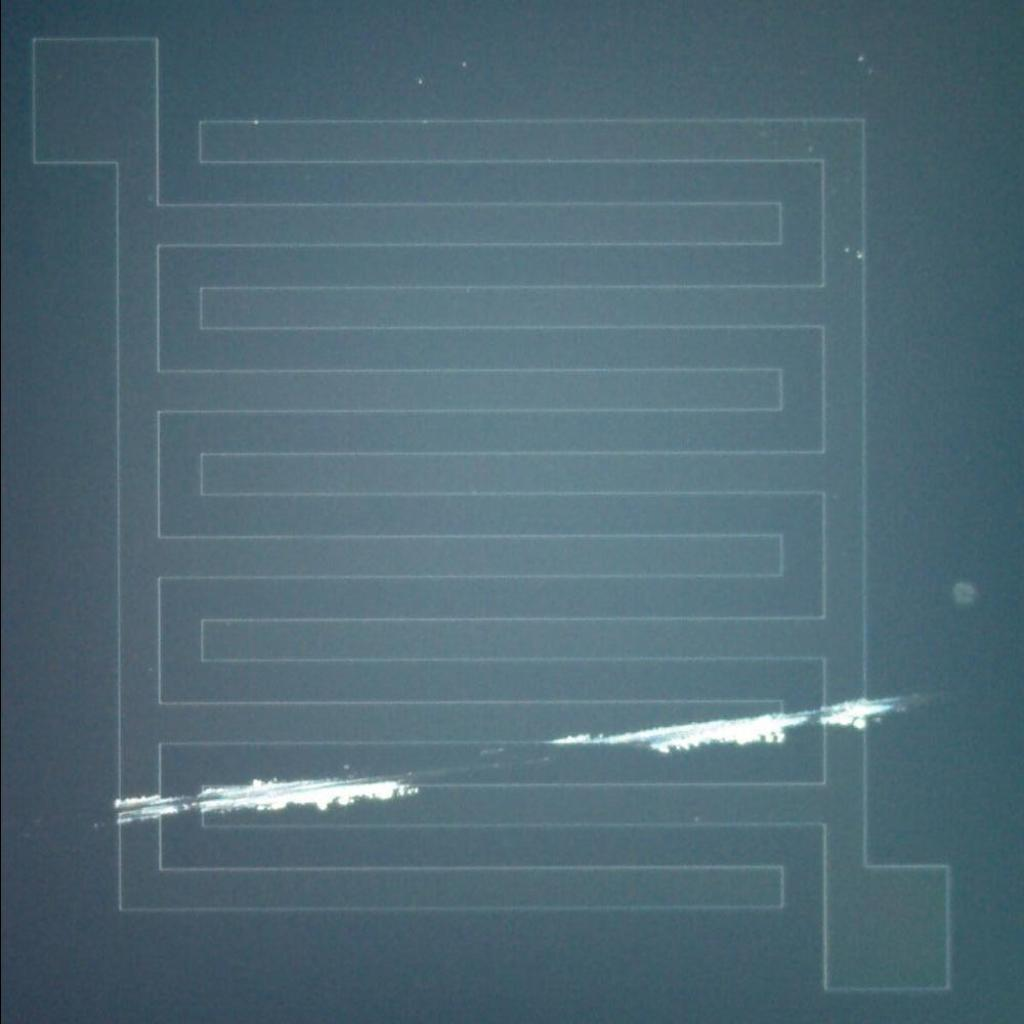scratch: (548, 692, 906, 756), (112, 771, 412, 824)
